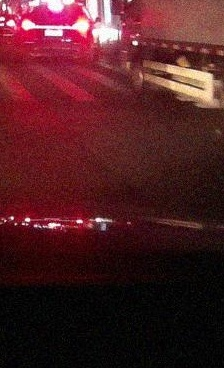L_light: (22, 21, 35, 30)
R_light: (73, 20, 89, 30)
T_light: (49, 5, 63, 11)
night-right: (21, 2, 91, 62)
